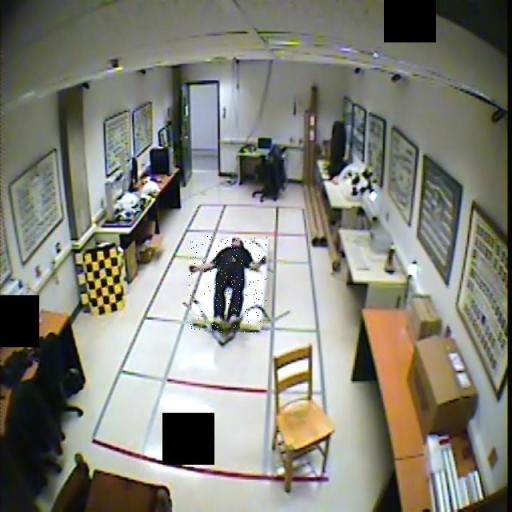Fall: (189, 236, 267, 334)
